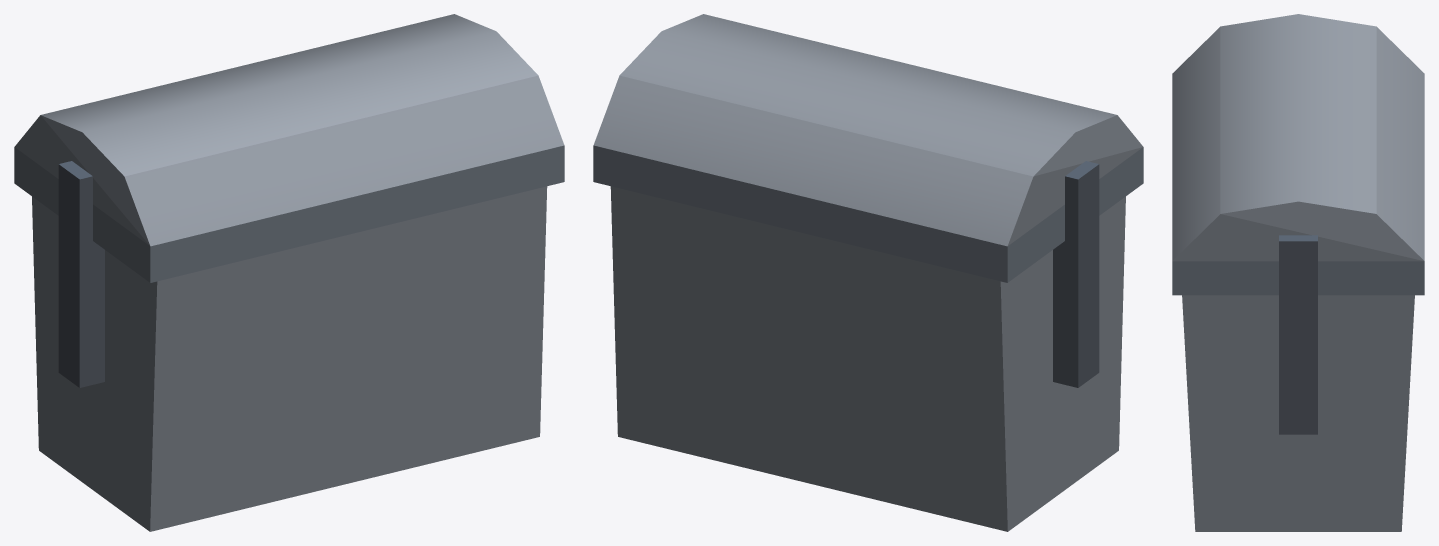
File: trash_can_07_pacote.glb
The picture shows the model from 3 angles, left to right: view 1: azimuth 30°, elevation 25°; view 2: azimuth 150°, elevation 25°; view 3: azimuth 270°, elevation 25°; orthographic projection. The views are drawn at different scales.
Parts seen in each view (by area): view 1: trash_can_07_pacote; view 2: trash_can_07_pacote; view 3: trash_can_07_pacote.
Part boxes in pixels (x1,y1,x2,y2): trash_can_07_pacote: [14, 14, 564, 531]; trash_can_07_pacote: [593, 14, 1143, 531]; trash_can_07_pacote: [1172, 14, 1424, 531].
Size of the model in its own units: 2.1 by 1.65 by 1.12.
Materials: 1 (1 with a texture image).
